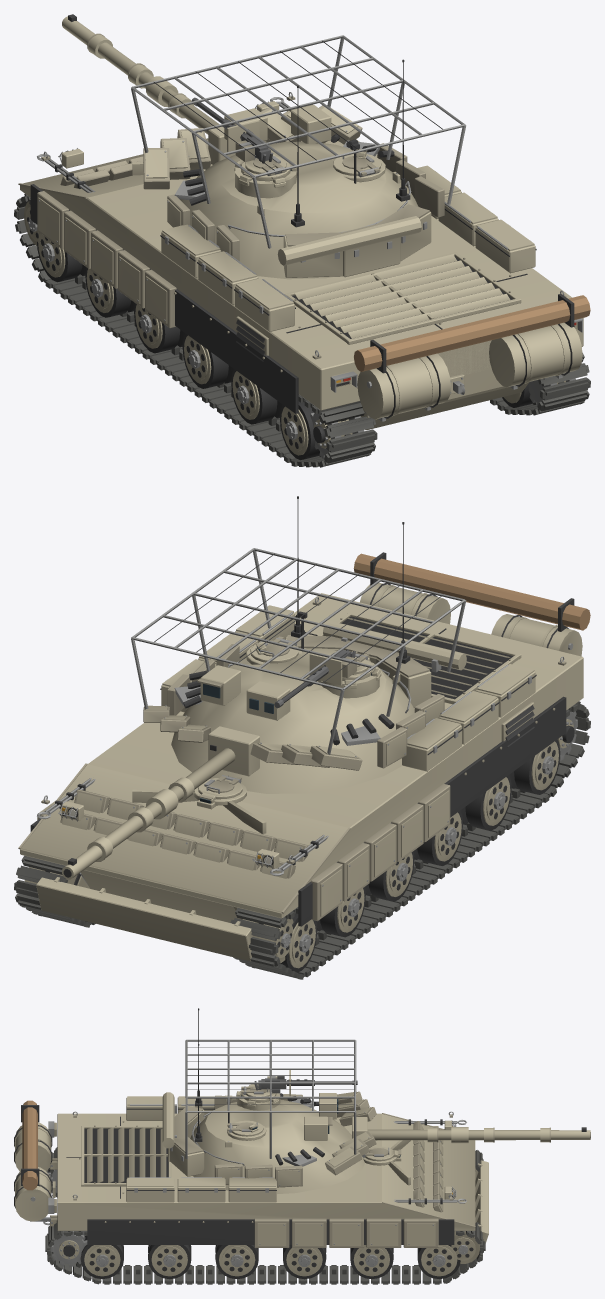
File: rus_mbt_72b3.glb
3 views of the same model, one above another, from view 1: azimuth 30°, elevation 25°; view 2: azimuth 150°, elevation 25°; view 3: azimuth 270°, elevation 25° (orthographic). The views are drawn at different scales.
Parts seen in each view (by area): view 1: body, turret, barrel; view 2: body, turret, barrel; view 3: body, turret, barrel.
Part boxes in pixels (bbox=[...]): body: bbox=[14, 92, 590, 467]; turret: bbox=[131, 35, 466, 279]; barrel: bbox=[62, 14, 235, 164]; body: bbox=[14, 552, 590, 979]; turret: bbox=[131, 496, 466, 793]; barrel: bbox=[62, 726, 259, 879]; body: bbox=[14, 1096, 488, 1284]; turret: bbox=[162, 1008, 376, 1193]; barrel: bbox=[352, 1117, 590, 1143].
Bounding box in the file's own units: 3.78 × 3.92 × 9.59.
